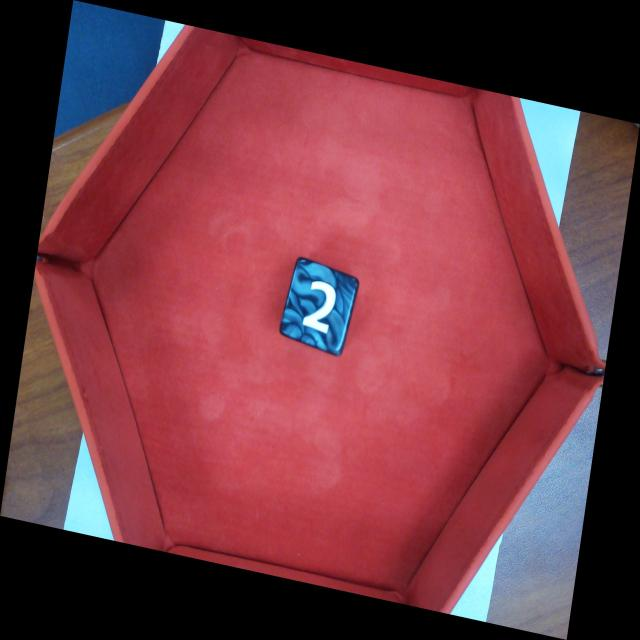dice: (278, 254, 362, 360)
